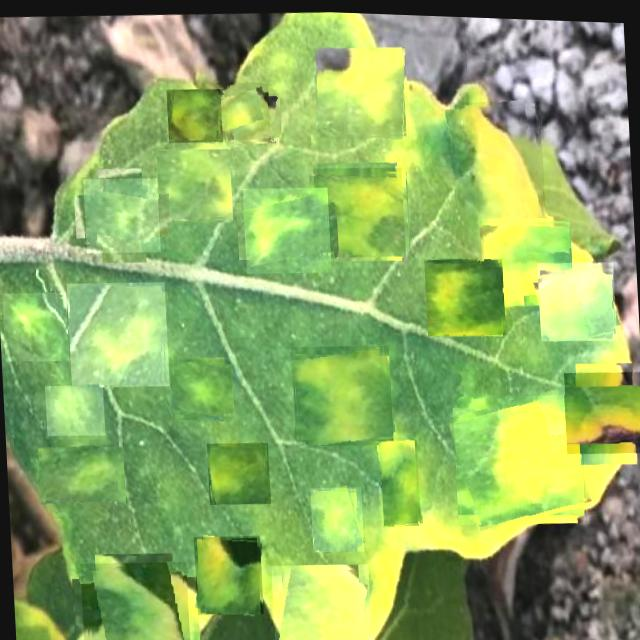leaf_spot: (452, 385, 588, 524), (450, 94, 549, 273), (66, 277, 170, 389), (292, 339, 394, 446), (313, 40, 410, 139), (80, 556, 191, 640), (313, 161, 406, 257), (482, 210, 573, 304), (271, 558, 372, 640), (242, 182, 332, 273), (424, 252, 506, 334), (537, 254, 617, 338), (564, 363, 640, 451), (83, 173, 161, 254), (156, 145, 234, 223), (44, 435, 120, 513), (194, 532, 264, 615), (2, 290, 70, 363), (207, 438, 271, 504), (170, 355, 233, 420), (379, 435, 421, 524), (310, 482, 364, 551), (212, 78, 271, 139), (44, 382, 106, 437), (223, 82, 280, 141), (166, 85, 223, 142)
